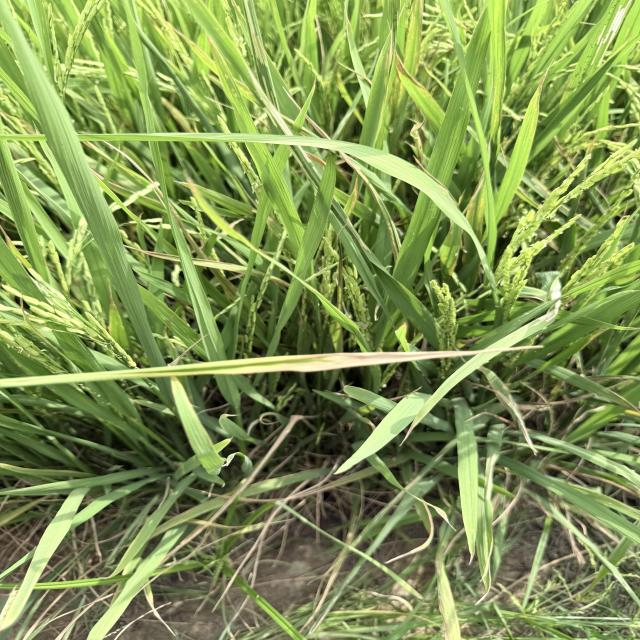Chay bia la: (107, 345, 544, 380)
